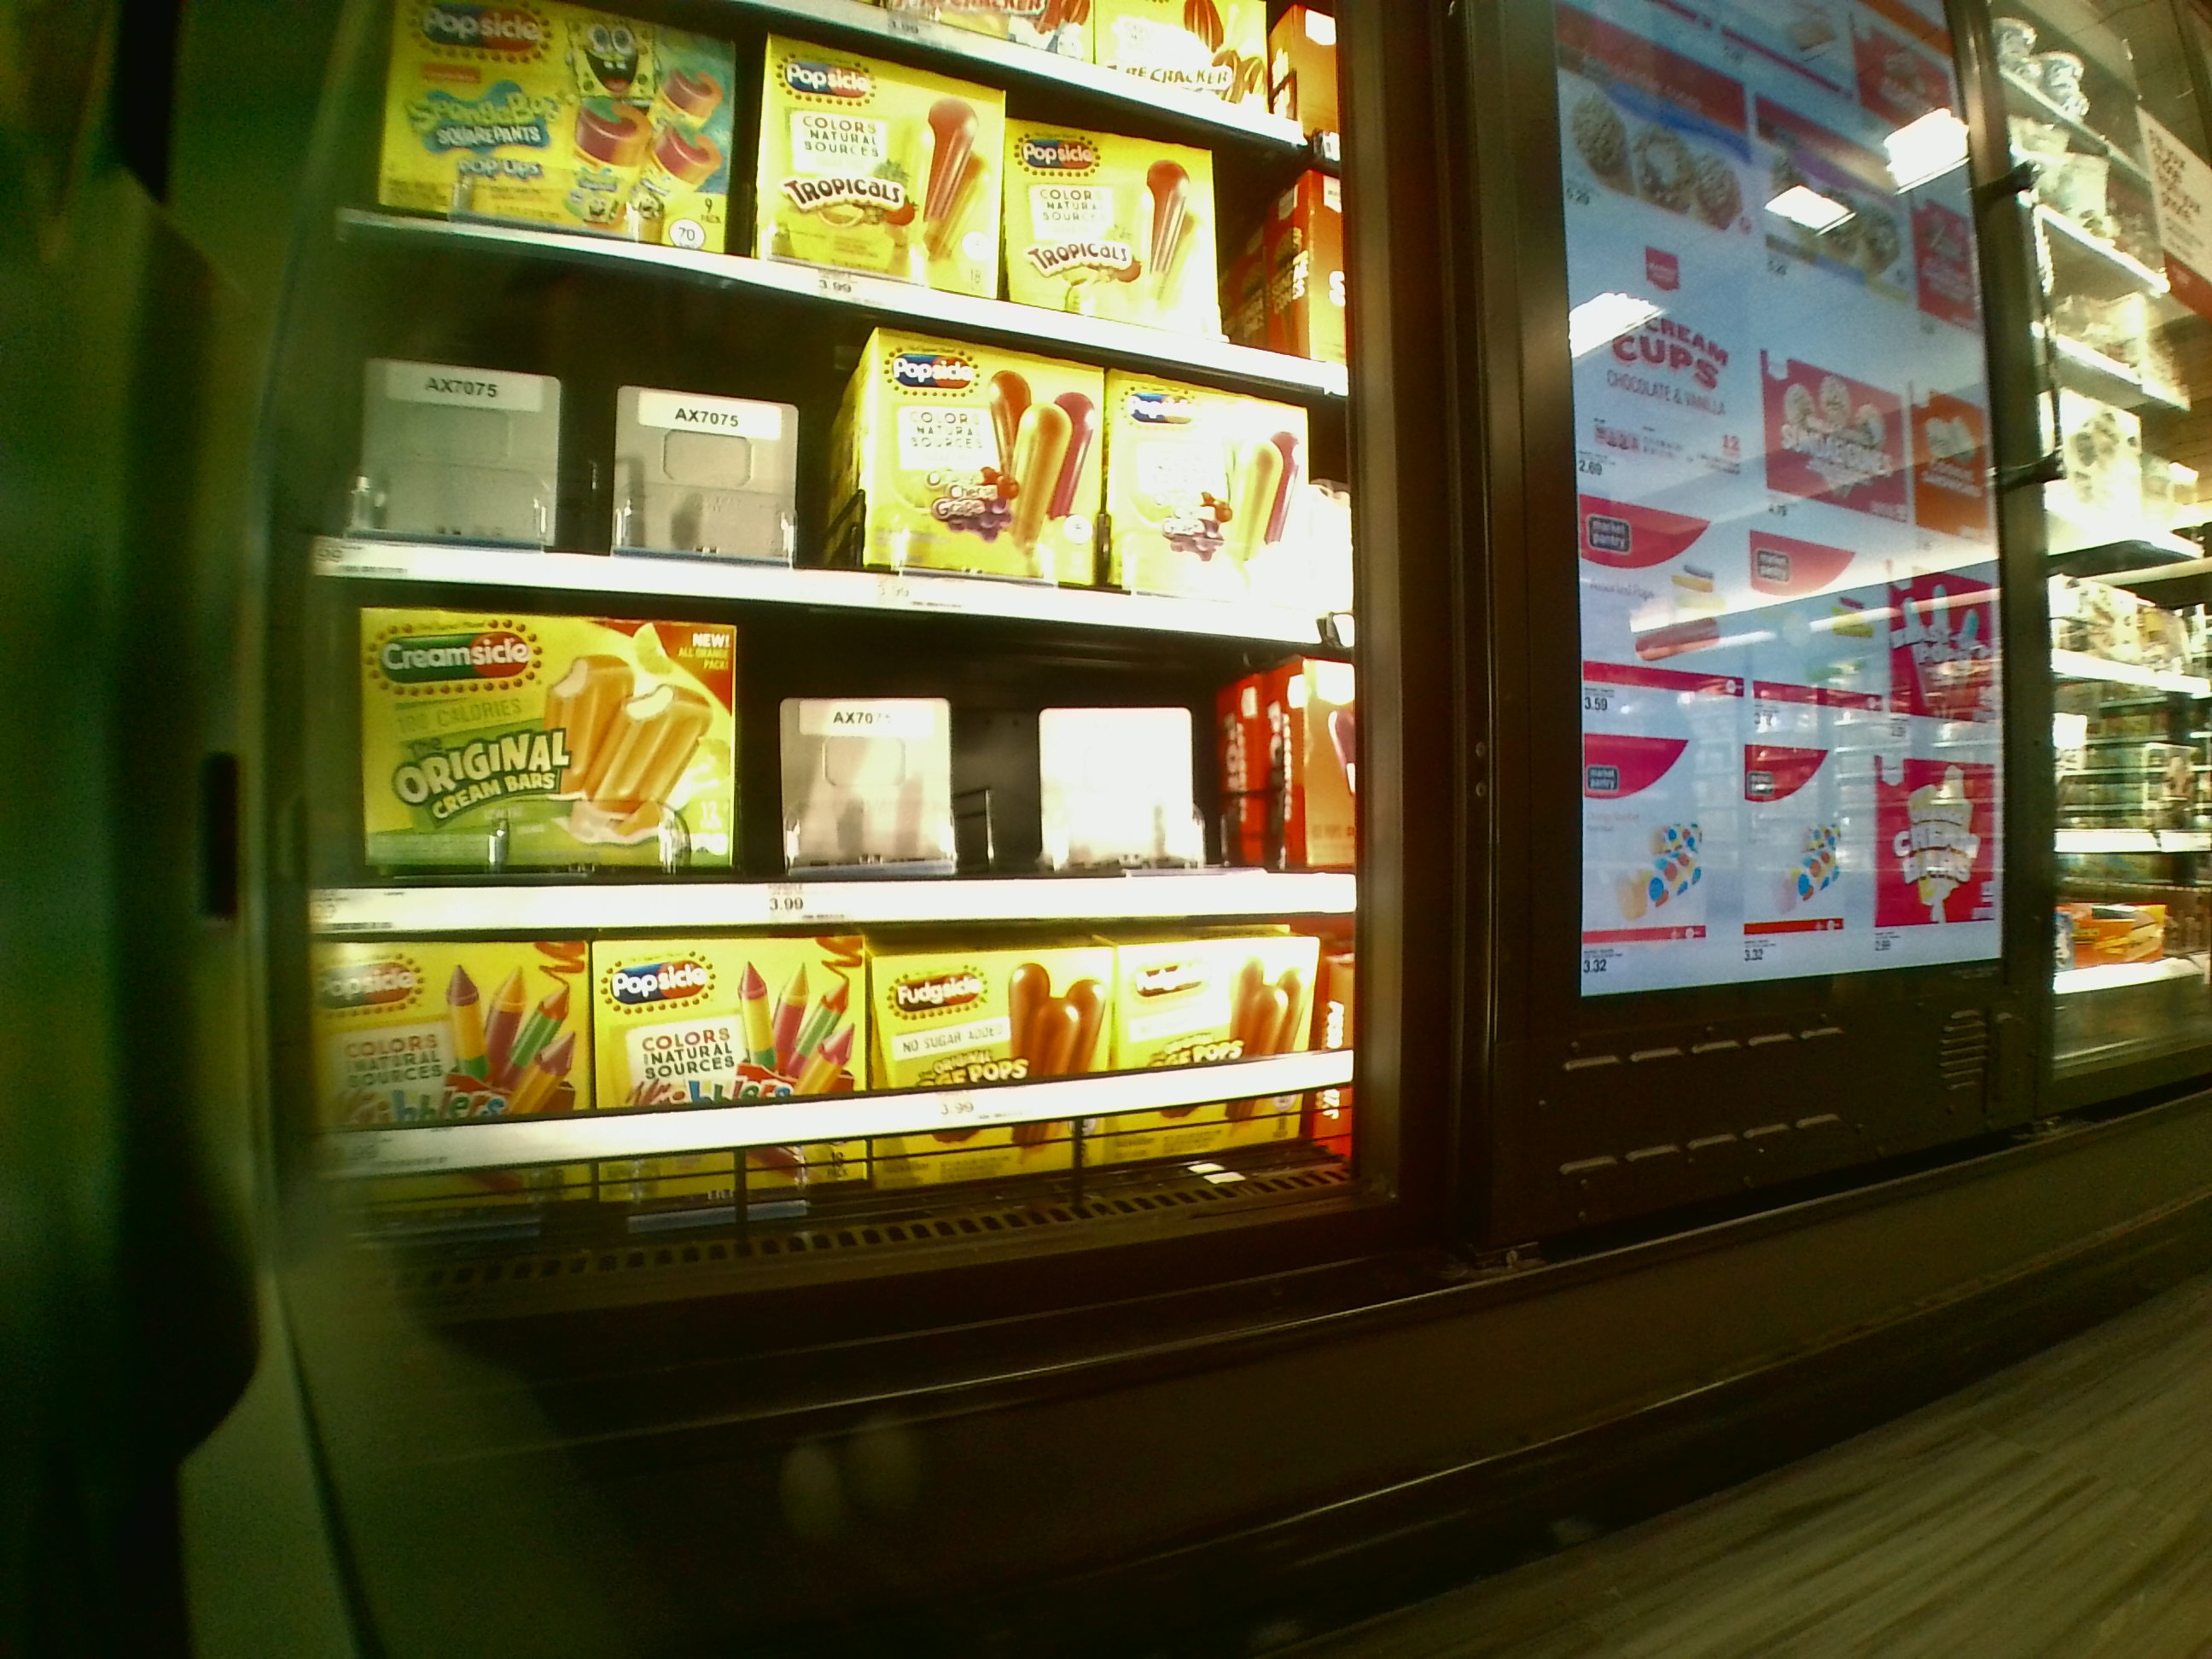shelf: (326, 605, 1343, 938), (322, 315, 1339, 622), (355, 939, 1339, 1246)
